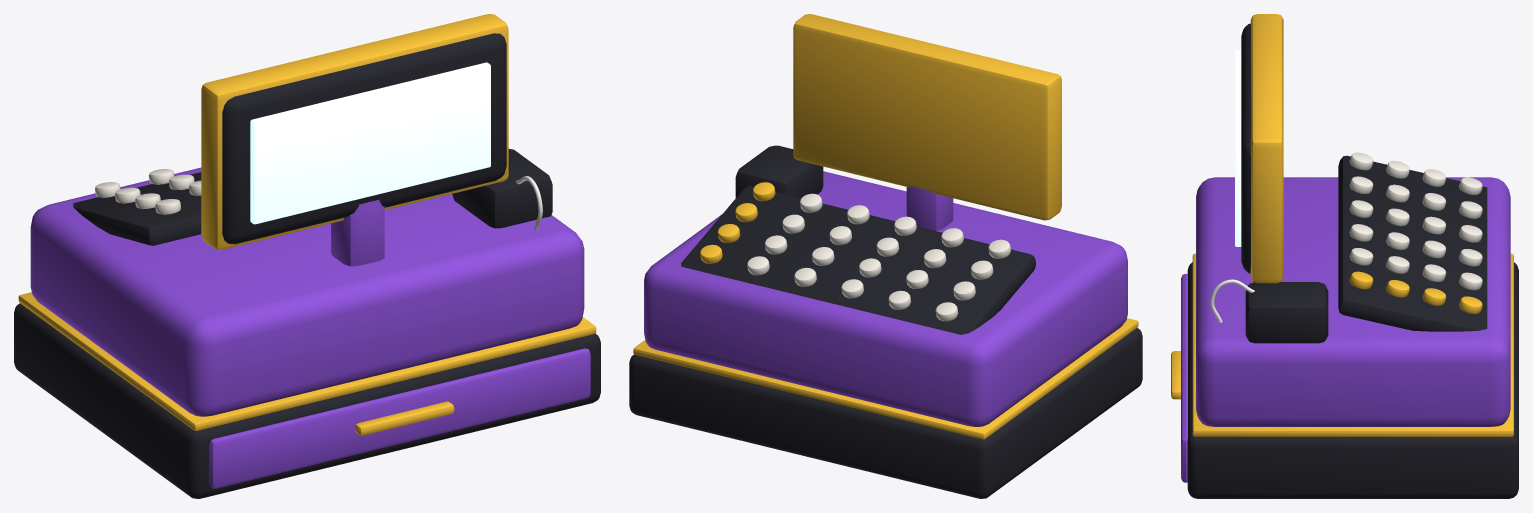
The model's file is PropCashRegister.fbx.
The picture shows the model from 3 angles, left to right: view 1: azimuth 30°, elevation 25°; view 2: azimuth 150°, elevation 25°; view 3: azimuth 270°, elevation 25°; orthographic projection. The views are drawn at different scales.
Parts seen in each view (by area): view 1: Accent, Dark, Display, Gold, Keys; view 2: Dark, Accent, Gold, Keys; view 3: Accent, Dark, Gold, Keys, Display.
Part boxes in pixels (bbox=[...]): Accent: bbox=[30, 167, 590, 488]; Dark: bbox=[14, 33, 600, 498]; Display: bbox=[250, 62, 490, 224]; Gold: bbox=[18, 14, 596, 435]; Keys: bbox=[95, 169, 201, 214]; Dark: bbox=[629, 145, 1142, 498]; Accent: bbox=[644, 171, 1127, 426]; Gold: bbox=[633, 14, 1138, 439]; Keys: bbox=[747, 193, 1010, 321]; Accent: bbox=[1181, 177, 1510, 482]; Dark: bbox=[1187, 23, 1518, 498]; Gold: bbox=[1171, 14, 1513, 436]; Keys: bbox=[1349, 152, 1482, 290]; Display: bbox=[1235, 50, 1241, 246].
Bounding box in the file's own units: 260 × 223 × 210.
